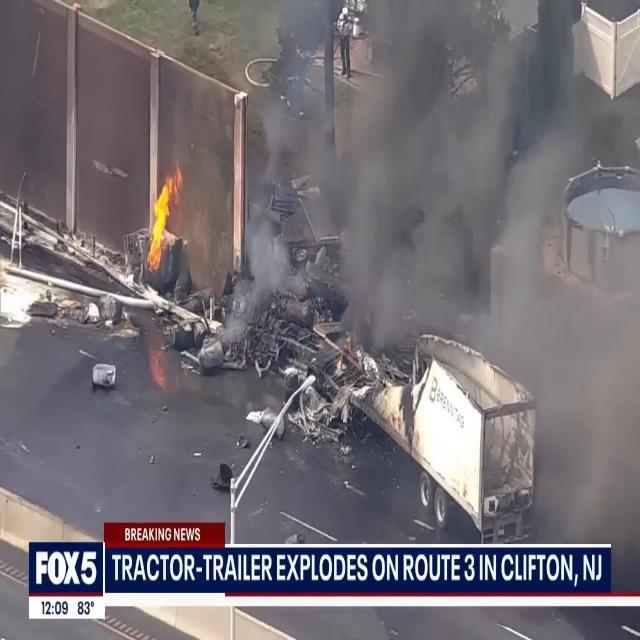fire: (142, 153, 186, 274)
